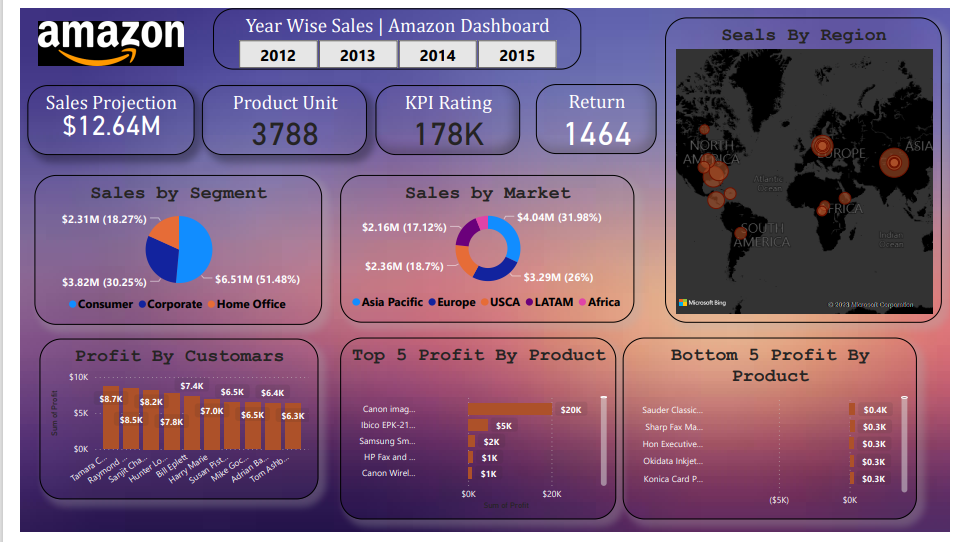

This screenshot's page, from the dashboard's own definition file:
{"tool":"powerbi","page":{"name":"Page 1","canvas":[1280,720],"ordinal":0},"visuals":[{"type":"card","title":" Sales Projection","fields":{"Values":["Orders.Sales"]},"box":[10,105.7,230,95.7],"z":0},{"type":"image","box":[20,12.9,210,71.4],"z":1000},{"type":"slicer","title":"Year Wise Sales | Amazon Dashboard","fields":{"Values":["Orders.Year"]},"box":[265.7,0,507.1,84.3],"z":2000},{"type":"card","title":"KPI Rating ","fields":{"Values":["Orders.Quantity"]},"box":[488.6,105.7,198.6,95.7],"z":3000},{"type":"card","title":"Product Unit ","fields":{"Values":["Orders.Product Name"]},"box":[250,105.7,227.1,95.7],"z":4000},{"type":"card","title":"Return","fields":{"Values":["Orders.Ship Date"]},"box":[710.6,104.1,166.3,95.7],"z":5000},{"type":"pieChart","title":"Sales by Segment","fields":{"Category":["Orders.Segment"],"Y":["Orders.Sales"]},"box":[20,230,395.7,205.7],"z":6000},{"type":"donutChart","title":"Sales by Market","fields":{"Y":["Orders.Sales"],"Category":["Orders.Market"]},"box":[440,230,405,202.5],"z":7000},{"type":"columnChart","title":"Profit By Customars","fields":{"Y":["Orders.Profit"],"Category":["Orders.Customer Name"]},"box":[25.7,454.3,384.3,221.4],"z":8000},{"type":"clusteredBarChart","title":"Top 5 Profit By Product ","fields":{"Category":["Orders.Product Name"],"Y":["Orders.Profit"]},"box":[440,453.8,380,250],"z":9000},{"type":"clusteredBarChart","title":"Bottom 5 Profit By Product ","fields":{"Category":["Orders.Product Name"],"Y":["Orders.Profit"]},"box":[830,453.8,405,250],"z":10000},{"type":"map","title":"Seals By Region","fields":{"Category":["Orders.Region"],"Size":["Orders.Sales"]},"box":[887.5,12.5,381.2,420],"z":11000}]}

Visuals, with their boxes in screenshot pixels (x1, y1, x2, y2), scaled from the page's 1280x720 canvas onto the 964x542 screenshot:
" Sales Projection" card: pyautogui.locateOnScreen(8, 80, 181, 152)
image: pyautogui.locateOnScreen(15, 10, 173, 63)
"Year Wise Sales | Amazon Dashboard" slicer: pyautogui.locateOnScreen(200, 0, 582, 63)
"KPI Rating " card: pyautogui.locateOnScreen(368, 80, 518, 152)
"Product Unit " card: pyautogui.locateOnScreen(188, 80, 359, 152)
"Return" card: pyautogui.locateOnScreen(535, 78, 660, 150)
"Sales by Segment" pieChart: pyautogui.locateOnScreen(15, 173, 313, 328)
"Sales by Market" donutChart: pyautogui.locateOnScreen(331, 173, 636, 326)
"Profit By Customars" columnChart: pyautogui.locateOnScreen(19, 342, 309, 509)
"Top 5 Profit By Product " clusteredBarChart: pyautogui.locateOnScreen(331, 342, 618, 530)
"Bottom 5 Profit By Product " clusteredBarChart: pyautogui.locateOnScreen(625, 342, 930, 530)
"Seals By Region" map: pyautogui.locateOnScreen(668, 9, 955, 326)
